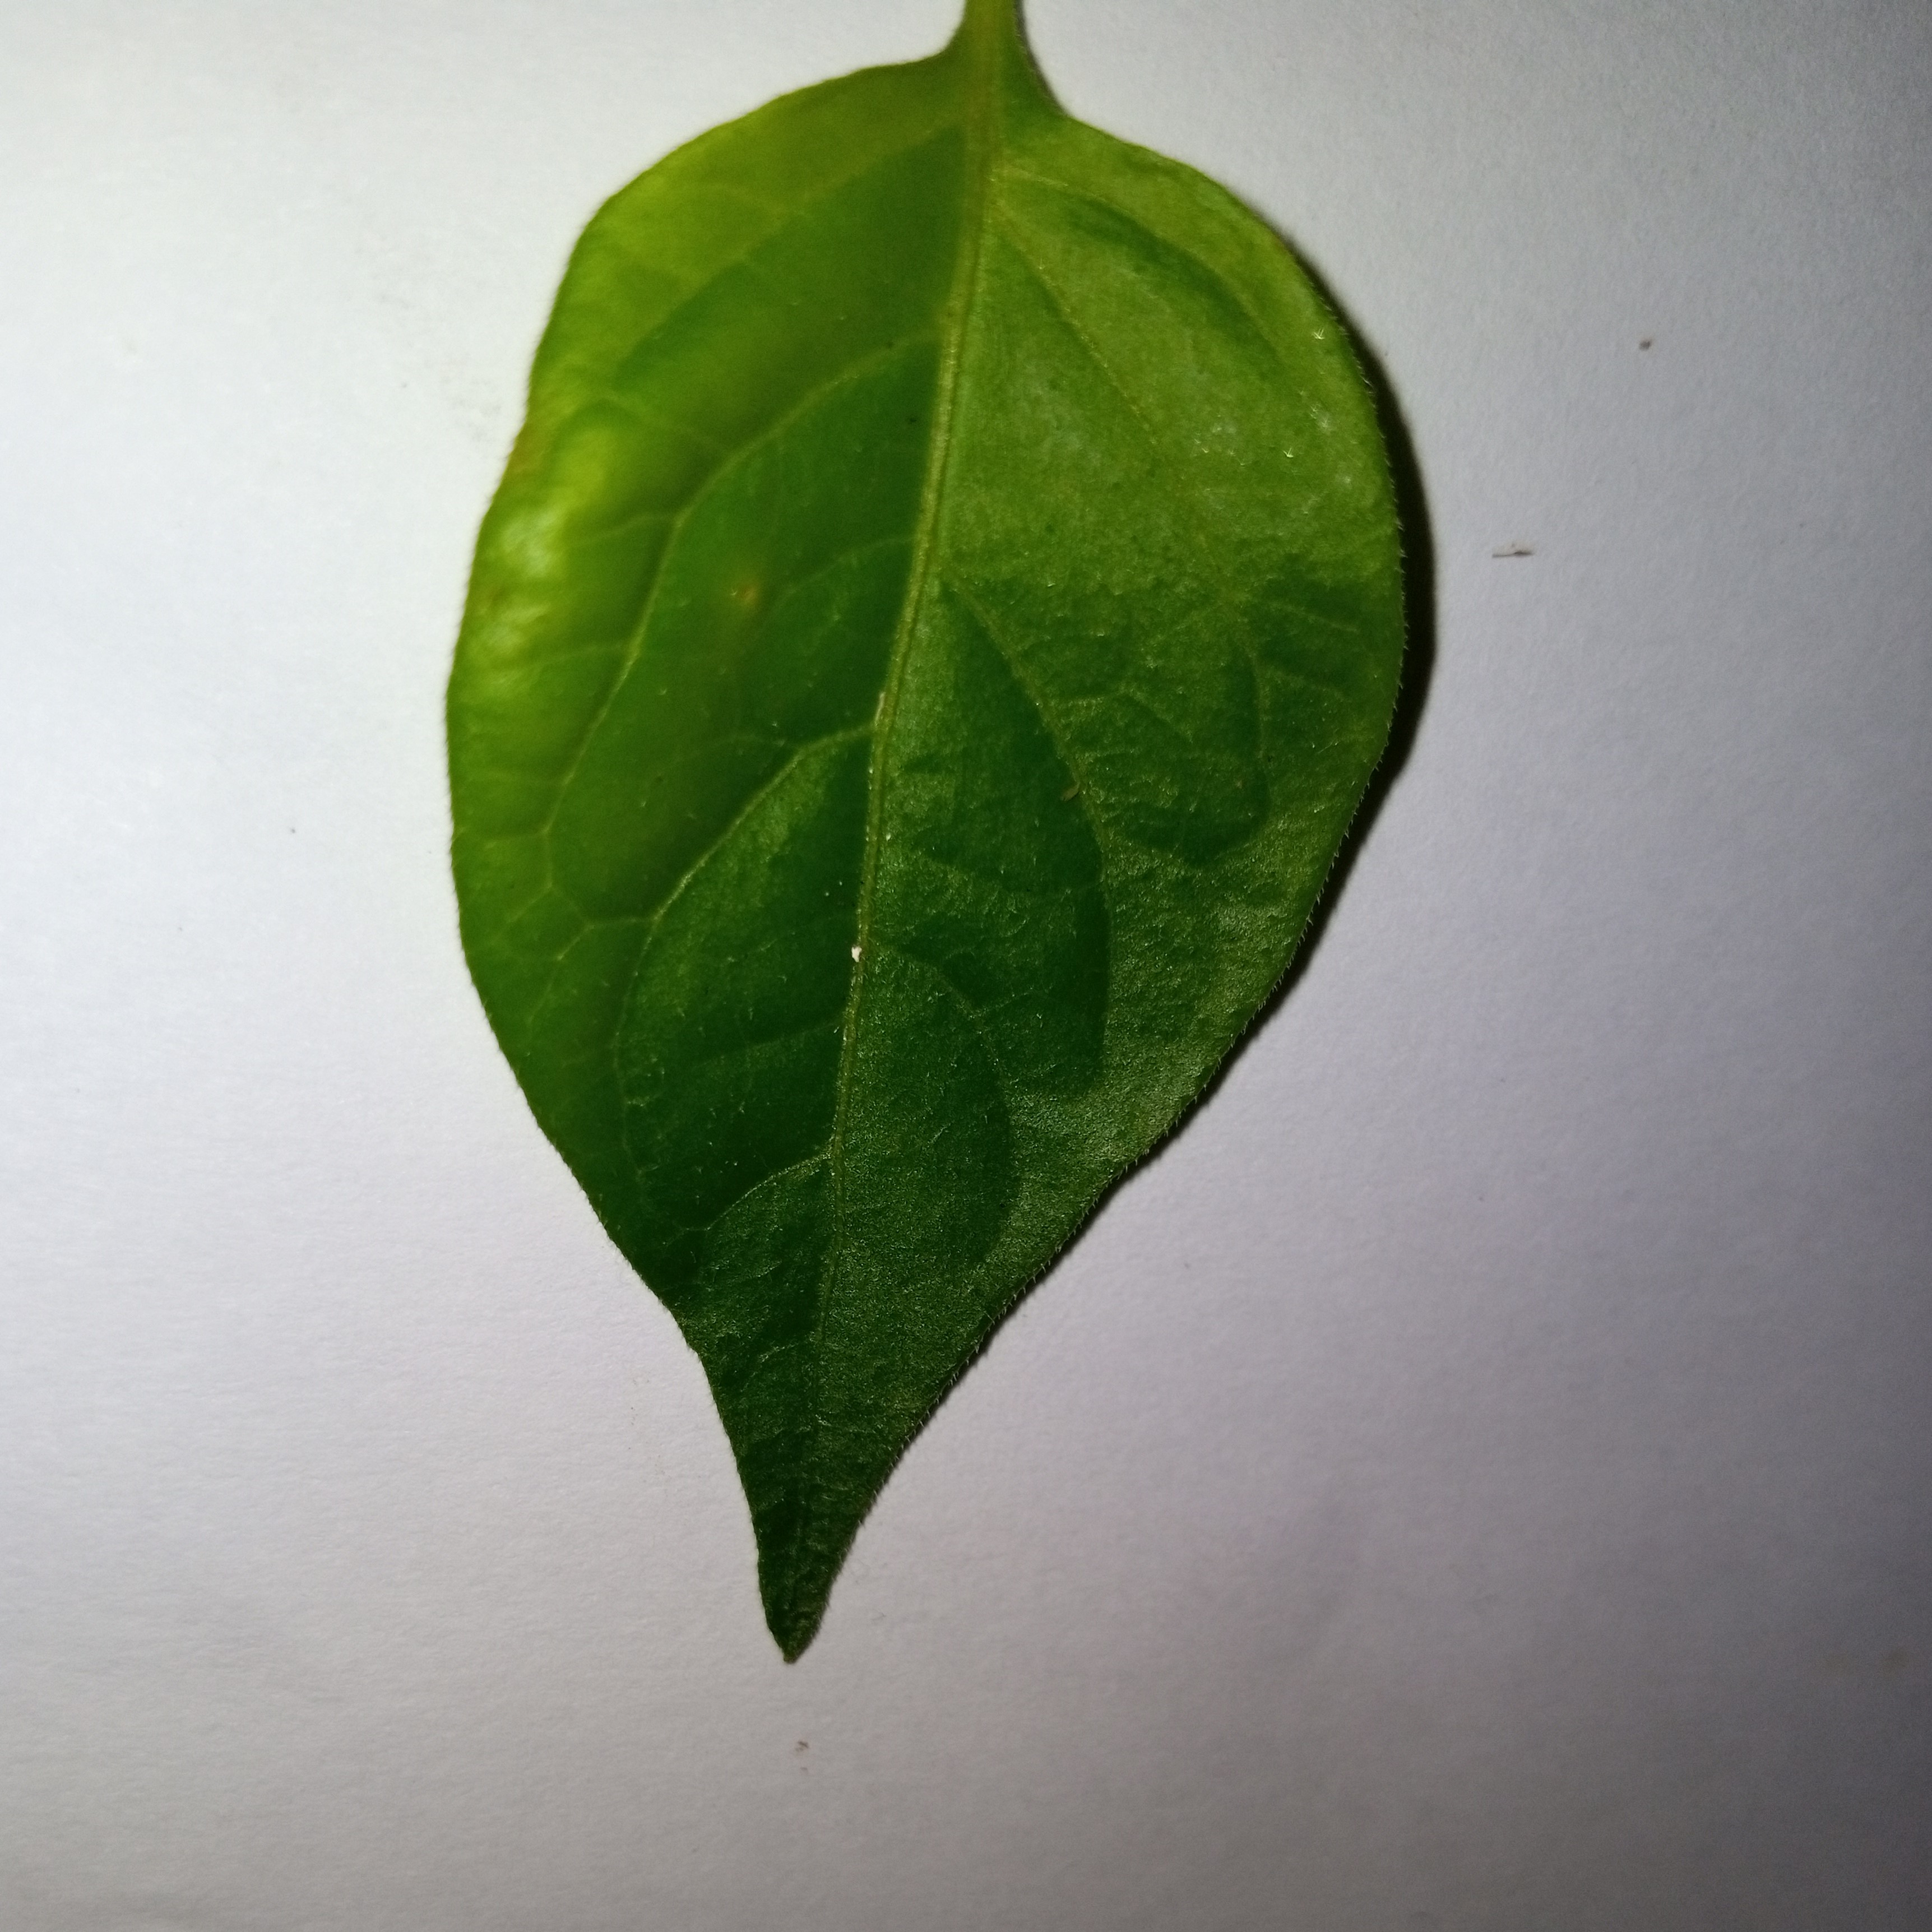Leaf: (340, 48, 1606, 1789)
